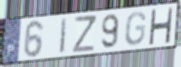6: (22, 19, 45, 60)
9: (100, 13, 120, 49)
G: (124, 11, 147, 47)
H: (147, 7, 174, 45)
I: (59, 17, 68, 56)
Z: (72, 15, 97, 55)
